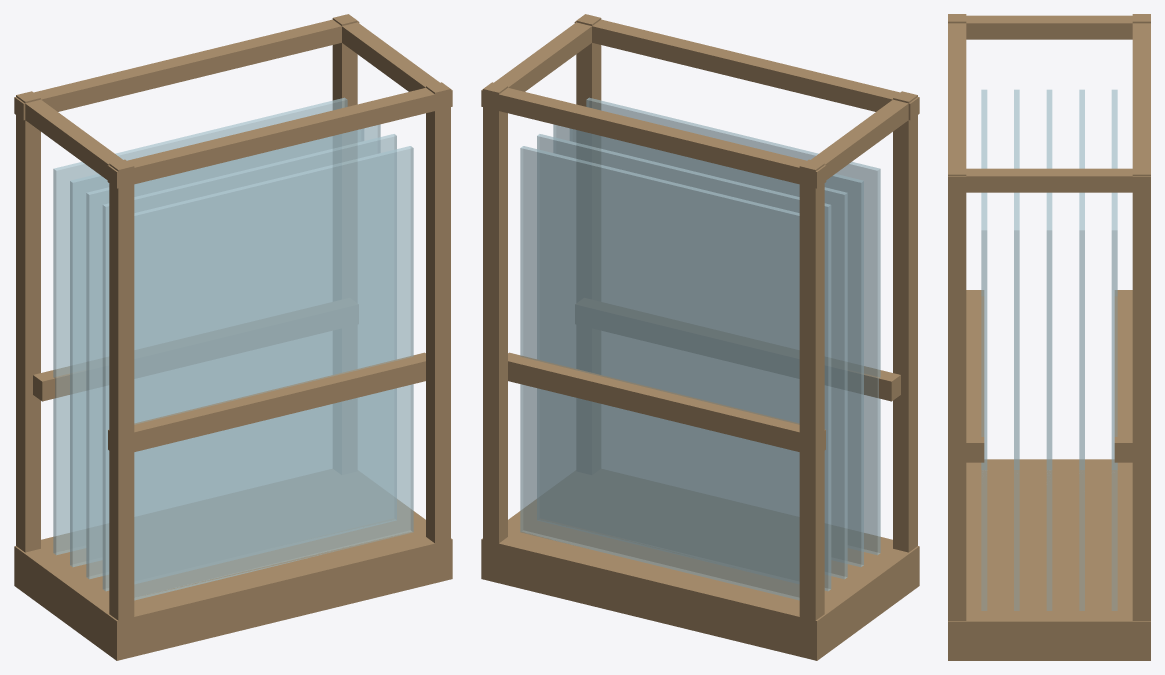
The model's file is GlassPanels.glb.
3 views of the same model, side by side, from view 1: azimuth 30°, elevation 25°; view 2: azimuth 150°, elevation 25°; view 3: azimuth 270°, elevation 25° (orthographic).
Parts seen in each view (by area): view 1: GlassPanels; view 2: GlassPanels; view 3: GlassPanels.
Boxes of the visible parts, x1,y1,x2,y2 form: GlassPanels: [14, 14, 452, 660]; GlassPanels: [481, 14, 919, 660]; GlassPanels: [948, 14, 1150, 660].
Size of the model in its own units: 1.06 by 1.48 by 0.56.
